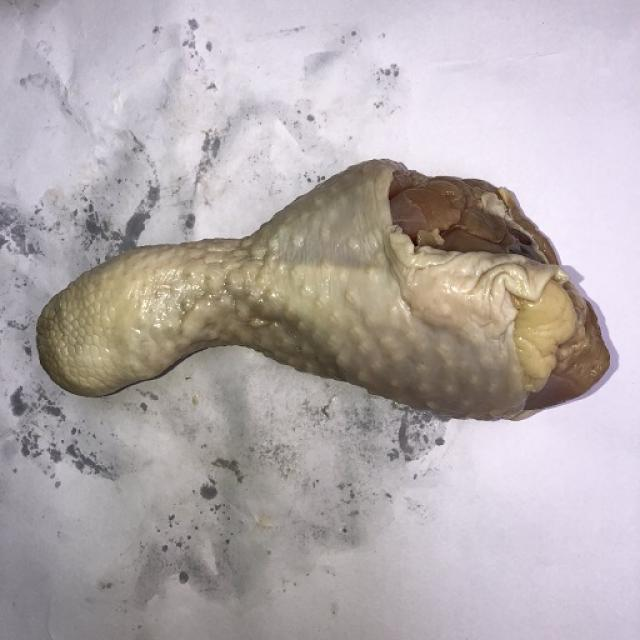chicken: (34, 156, 611, 422)
